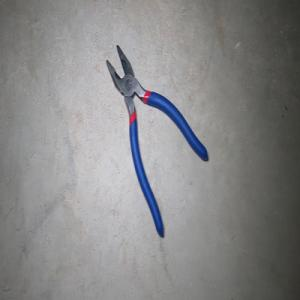Pliers: (106, 44, 208, 237)
